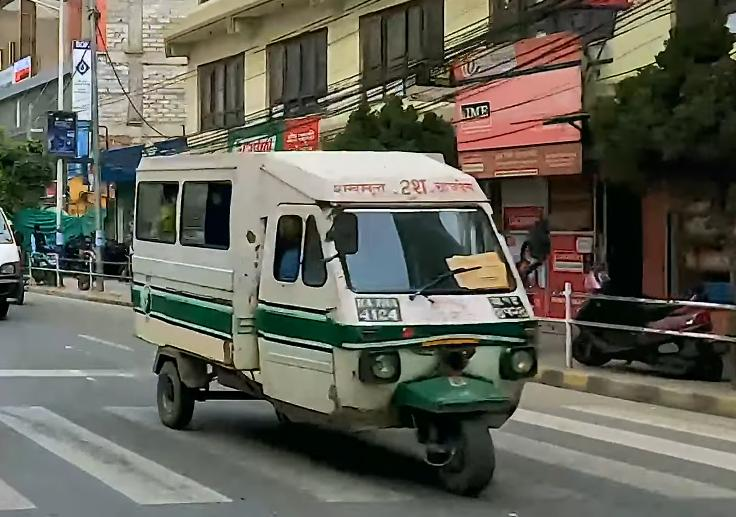tempo: (125, 143, 544, 502)
